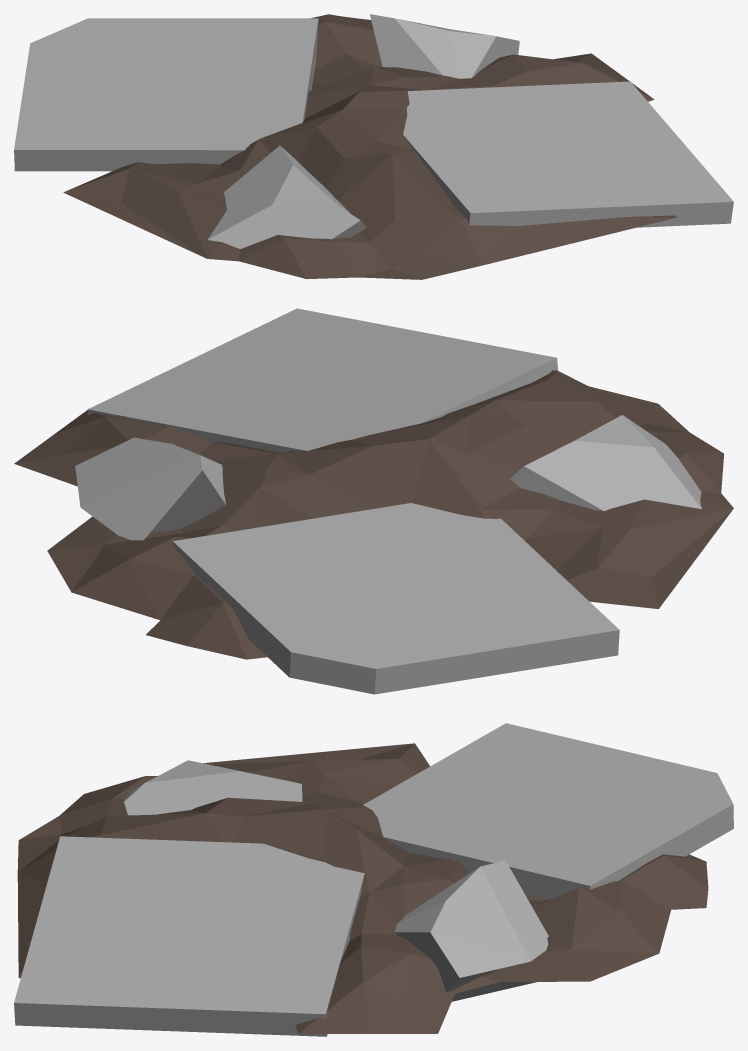
The model's file is rubble.fbx.
3 renders of one model, top to bottom at view 1: azimuth 30°, elevation 25°; view 2: azimuth 150°, elevation 25°; view 3: azimuth 270°, elevation 25°, orthographic. The views are drawn at different scales.
Parts seen in each view (by area): view 1: rubble_pile; view 2: rubble_pile; view 3: rubble_pile.
Boxes of the visible parts, <box> form: rubble_pile: <box>14,14,733,279</box>; rubble_pile: <box>14,308,733,694</box>; rubble_pile: <box>14,723,733,1036</box>.
Size of the model in its own units: 443 by 63.66 by 457.
